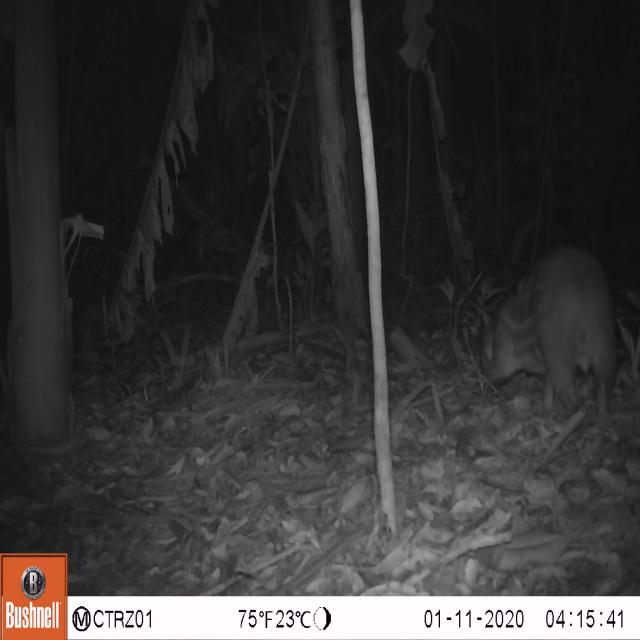Spotted Paca: (475, 228, 640, 441)
